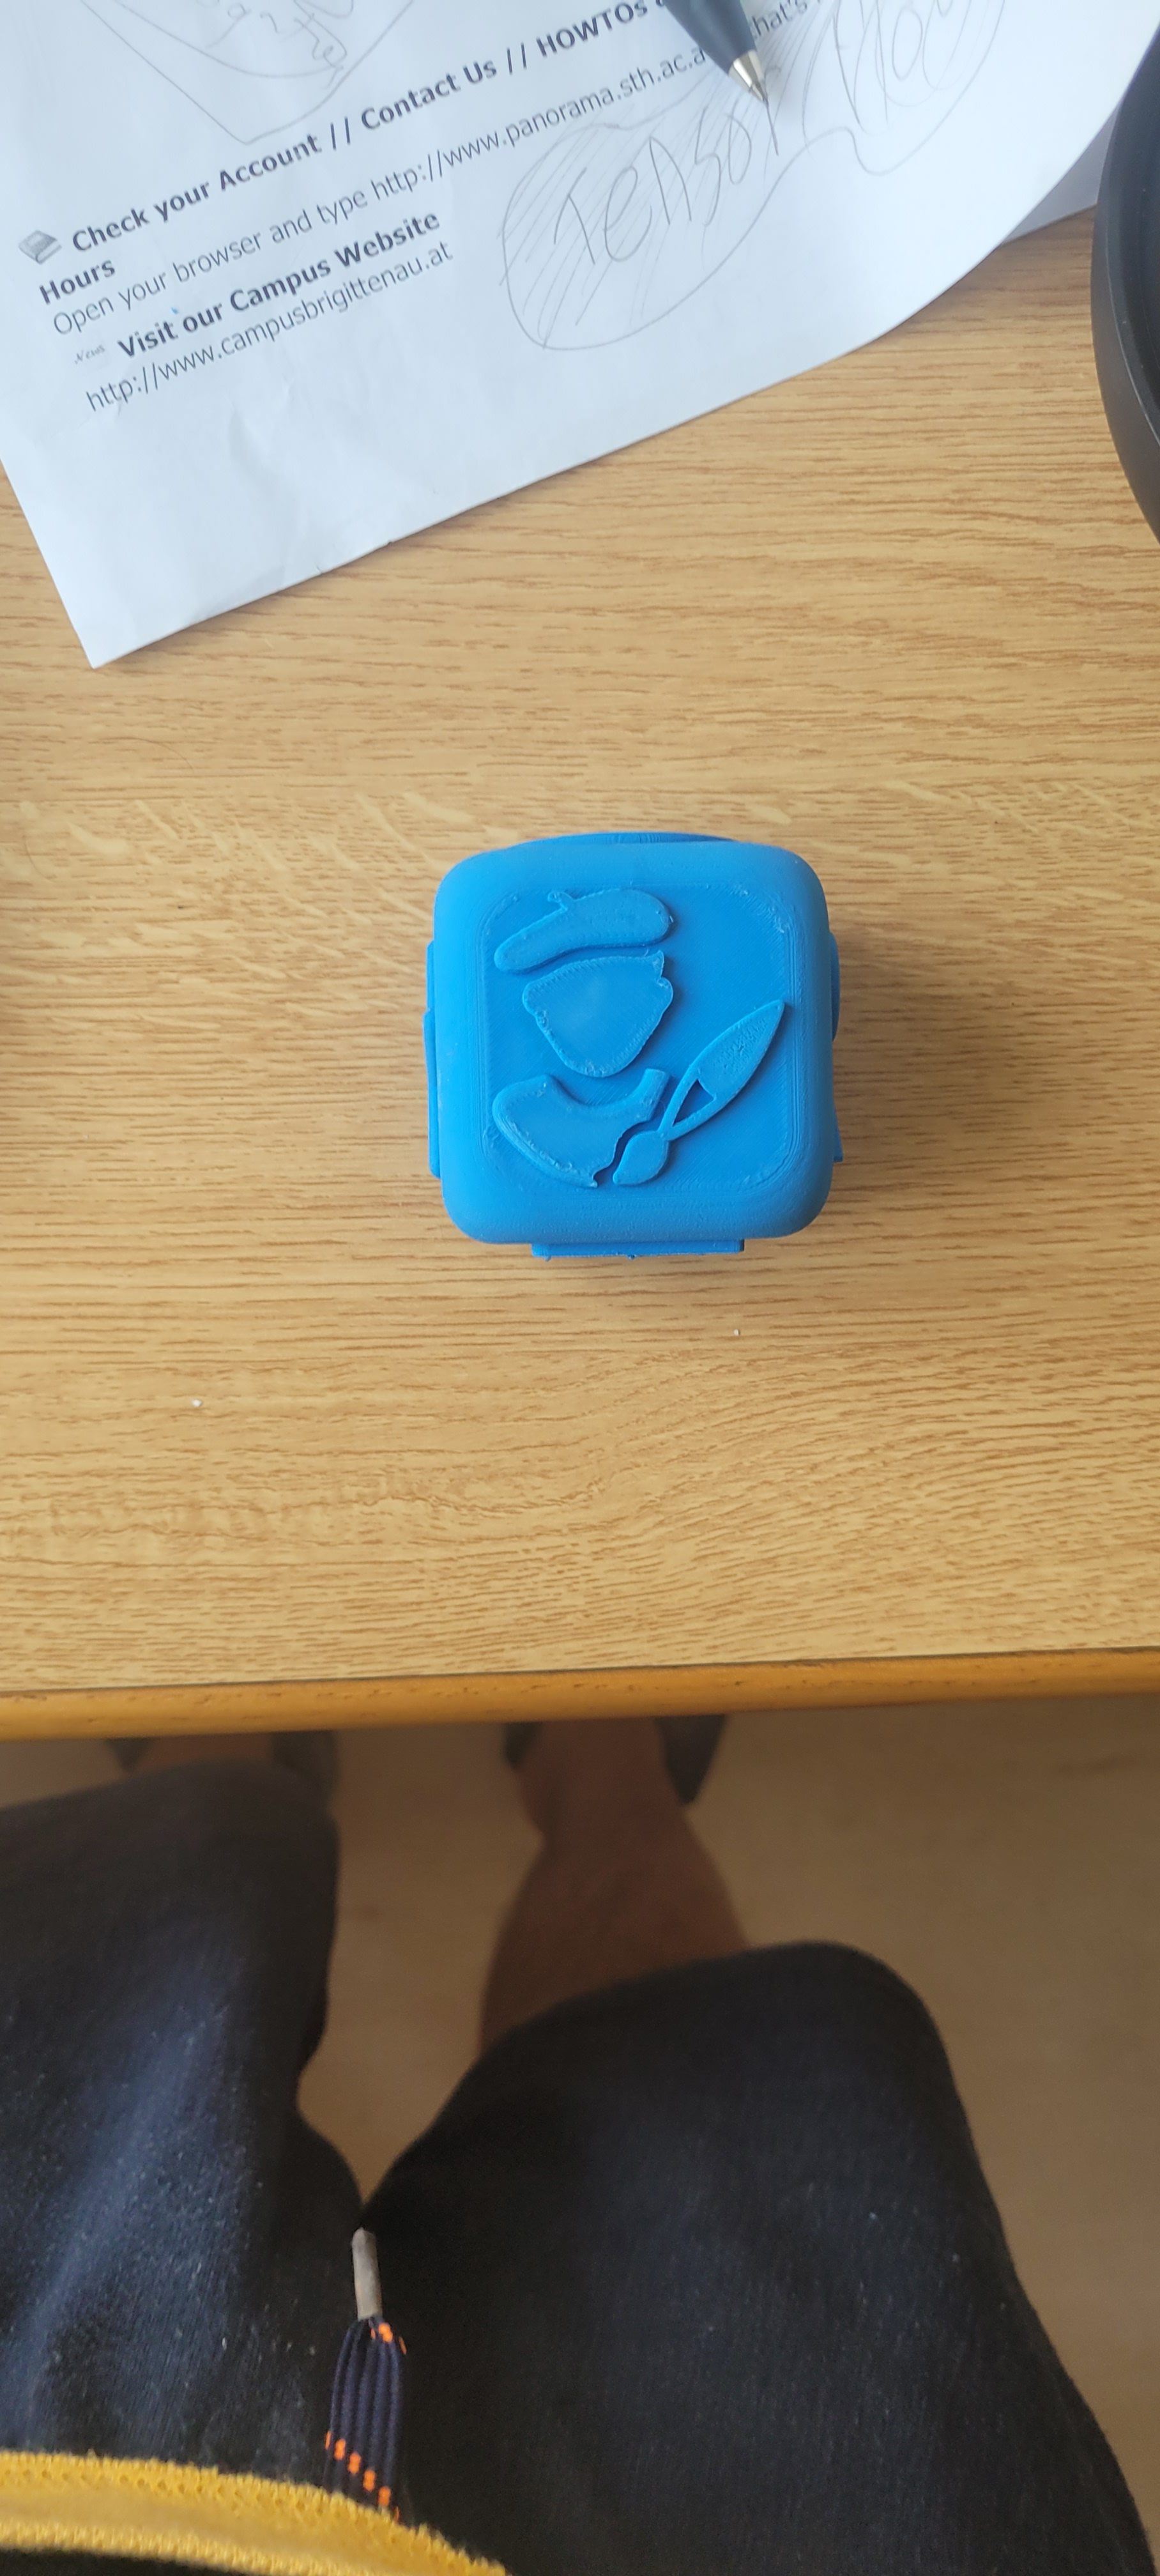Artist_Info: (422, 798, 845, 1278)
